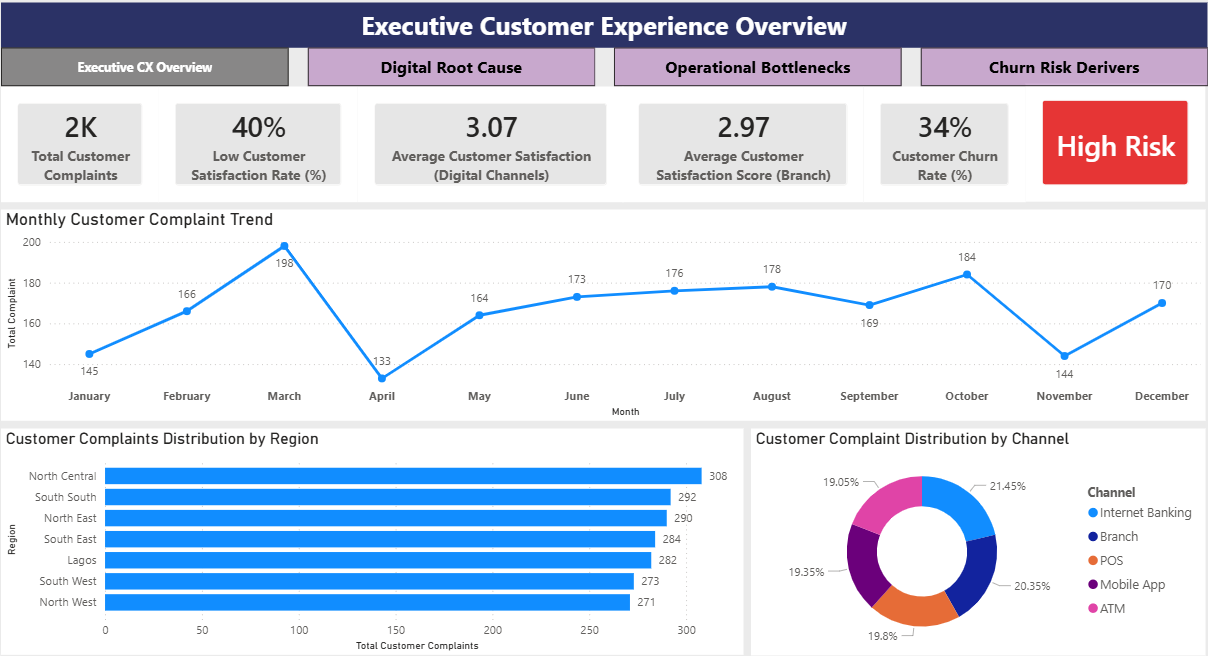

The dashboard page shown, as its layout file describes it:
{"tool":"powerbi","page":{"name":"Executive CX Overview","canvas":[1280,720],"ordinal":0},"visuals":[{"type":"textbox","box":[0,20.7,1279,47.7],"z":0},{"type":"cardVisual","fields":{"Data":["Fact_Complaints.Total Complaints"]},"box":[0,109.8,167,122.5],"z":1000},{"type":"cardVisual","fields":{"Data":["Fact_Complaints.Average Customer Satisfaction (Digital Channels)"]},"box":[378.6,109.8,281.5,122.5],"z":2000},{"type":"cardVisual","fields":{"Data":["Fact_Complaints.Low Satisfaction Rate % (Score ≤ 2)"]},"box":[167,109.8,211.6,122.5],"z":3000},{"type":"cardVisual","fields":{"Data":["Fact_Complaints.High Churn Rate %"]},"box":[914.6,109.8,171.8,122.5],"z":4000},{"type":"cardVisual","fields":{"Data":["Fact_Complaints.Average Customer Satisfaction Score (Branch)"]},"box":[658.5,109.8,256.1,122.5],"z":5000},{"type":"cardVisual","fields":{"Data":["Fact_Complaints.Risk Level"]},"box":[1086.4,106.6,190.9,125.7],"z":6000},{"type":"lineChart","title":"Monthly Customer Complaint Trend","fields":{"Y":["Fact_Complaints.Total Complaints"],"Category":["Dim_Date.Month_Name"]},"box":[0,240.2,1277.3,224.3],"z":7000},{"type":"clusteredBarChart","title":"Customer Complaints Distribution by Region","fields":{"Category":["Dim_Branch.Region"],"Y":["Fact_Complaints.Total Complaints"]},"box":[0,472.4,787.4,240.2],"z":8000},{"type":"donutChart","title":"Customer Complaint Distribution by Channel","fields":{"Category":["Dim_Channel.Channel"],"Y":["Fact_Complaints.Total Complaints"]},"box":[795.3,471.9,482,240.7],"z":9000},{"type":"pageNavigator","box":[0,68.4,1280,41.4],"z":10000}]}

Visuals, with their boxes on the page's 1280x720 design canvas (x1, y1, x2, y2). These are canvas units, not pixel positions in the 1208x656 screenshot, which may show the page scaled, cropped or inside an application window:
textbox: rect(0, 21, 1279, 68)
cardVisual - Fact_Complaints.Total Complaints: rect(0, 110, 167, 232)
cardVisual - Fact_Complaints.Average Customer Satisfaction (Digital Channels): rect(379, 110, 660, 232)
cardVisual - Fact_Complaints.Low Satisfaction Rate % (Score ≤ 2): rect(167, 110, 379, 232)
cardVisual - Fact_Complaints.High Churn Rate %: rect(915, 110, 1086, 232)
cardVisual - Fact_Complaints.Average Customer Satisfaction Score (Branch): rect(658, 110, 915, 232)
cardVisual - Fact_Complaints.Risk Level: rect(1086, 107, 1277, 232)
"Monthly Customer Complaint Trend" lineChart: rect(0, 240, 1277, 464)
"Customer Complaints Distribution by Region" clusteredBarChart: rect(0, 472, 787, 713)
"Customer Complaint Distribution by Channel" donutChart: rect(795, 472, 1277, 713)
pageNavigator: rect(0, 68, 1280, 110)
